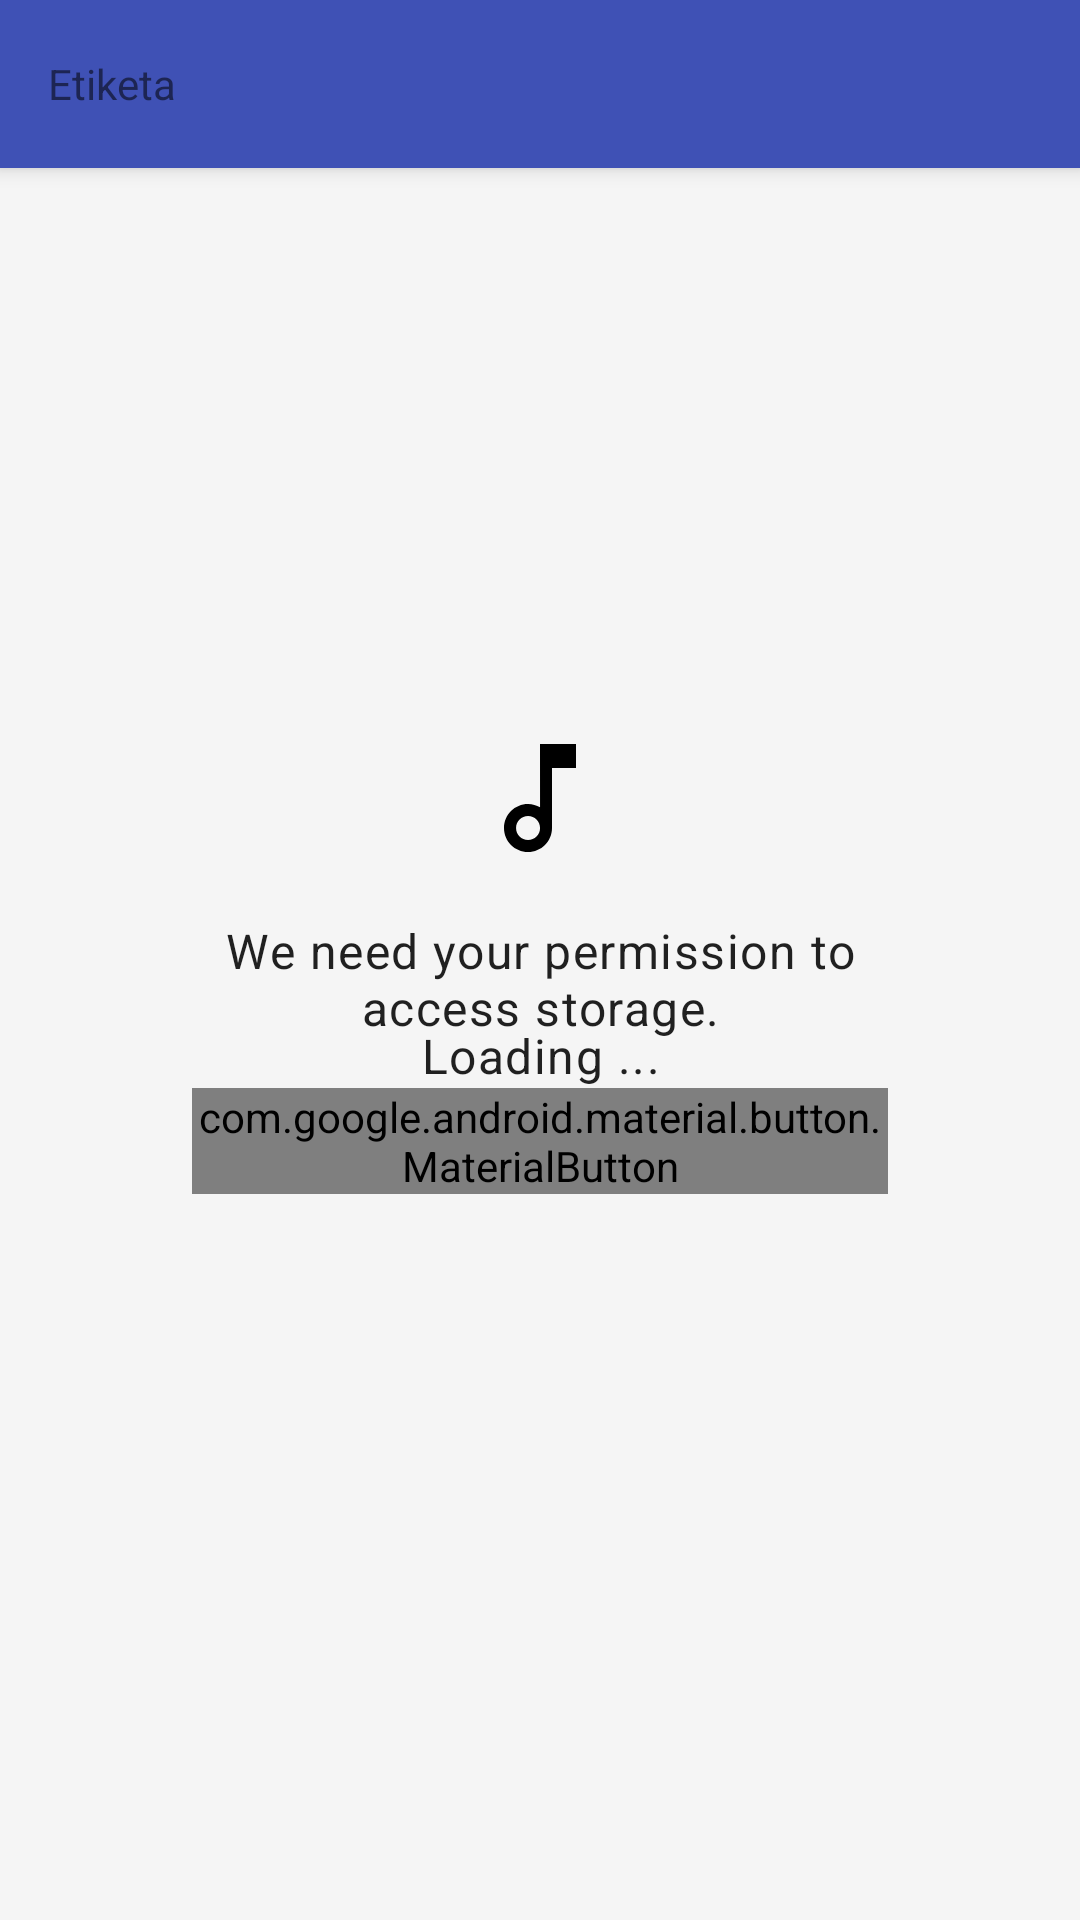

Point at icon controls on the screen. Image size 1080px x 1920px, points as (x,y).
music note surface: (540,798)
